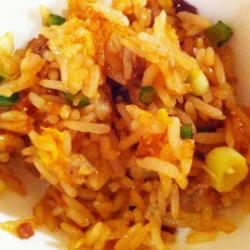rice: (40, 35, 178, 215)
